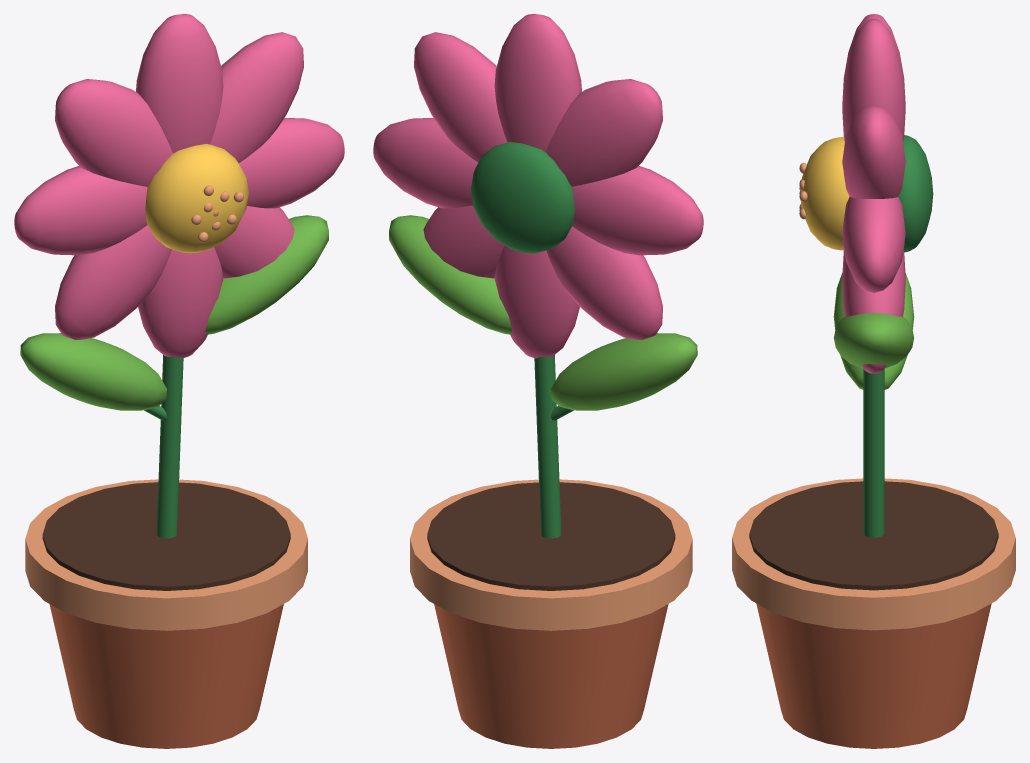
File: flower.glb
3 renders of one model, left to right at view 1: azimuth 30°, elevation 25°; view 2: azimuth 150°, elevation 25°; view 3: azimuth 270°, elevation 25°, orthographic.
Parts seen in each view (by area): view 1: Terracotta pot, Soil, Pot rim, Pink petal 8, Pink petal 7, Pink petal 1, Golden flower center, Pink petal 6, Pink petal 2, Left leaf, Pink petal 3, Pink petal 5 (+3 smaller); view 2: Terracotta pot, Soil, Pot rim, Calyx, Pink petal 8, Pink petal 7, Pink petal 1, Pink petal 6, Pink petal 2, Left leaf, Pink petal 3, Pink petal 5 (+3 smaller); view 3: Terracotta pot, Soil, Pot rim, Pink petal 3, Pink petal 1, Pink petal 2, Golden flower center, Stem, Right leaf, Calyx, Pink petal 4, Left leaf.
Boxes of the visible parts, x1,y1,x2,y2 form: Terracotta pot: [49, 604, 283, 748]; Soil: [42, 482, 290, 590]; Pot rim: [25, 479, 307, 630]; Pink petal 8: [55, 79, 172, 186]; Pink petal 7: [14, 166, 147, 255]; Pink petal 1: [136, 14, 223, 153]; Golden flower center: [145, 143, 248, 253]; Pink petal 6: [55, 225, 171, 339]; Pink petal 2: [210, 32, 303, 163]; Left leaf: [20, 333, 166, 410]; Pink petal 3: [239, 118, 344, 208]; Pink petal 5: [138, 247, 223, 358]; Terracotta pot: [434, 604, 668, 748]; Soil: [427, 482, 675, 590]; Pot rim: [410, 479, 692, 630]; Calyx: [471, 142, 574, 253]; Pink petal 8: [545, 79, 662, 186]; Pink petal 7: [572, 166, 703, 255]; Pink petal 1: [494, 14, 581, 151]; Pink petal 6: [546, 226, 662, 339]; Pink petal 2: [414, 32, 507, 162]; Left leaf: [551, 333, 697, 410]; Pink petal 3: [373, 118, 477, 208]; Pink petal 5: [494, 245, 579, 358]; Terracotta pot: [756, 603, 991, 748]; Soil: [749, 481, 998, 590]; Pot rim: [732, 478, 1015, 630]; Pink petal 3: [842, 197, 905, 292]; Pink petal 1: [842, 19, 905, 141]; Pink petal 2: [842, 105, 905, 198]; Golden flower center: [800, 137, 849, 250]; Stem: [863, 368, 884, 537]; Right leaf: [834, 313, 913, 368]; Calyx: [898, 135, 933, 252]; Pink petal 4: [842, 251, 905, 373]; Left leaf: [833, 272, 914, 389].
Bounding box in the file's own units: 0.4972 × 1 × 0.3702.
